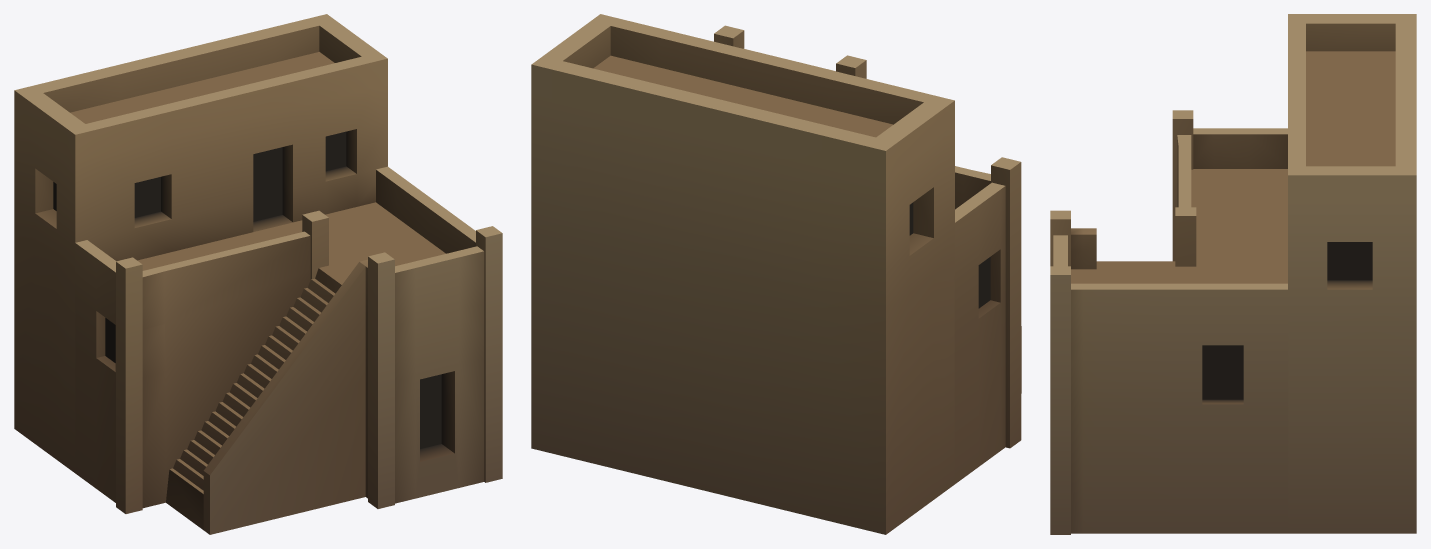
3 views of the same model, side by side, from view 1: azimuth 30°, elevation 25°; view 2: azimuth 150°, elevation 25°; view 3: azimuth 270°, elevation 25° (orthographic). The views are drawn at different scales.
Visible parts, largest first — view 1: alt3.017; view 2: alt3.017; view 3: alt3.017.
Boxes of the visible parts, x1,y1,x2,y2 form: alt3.017: (14,14,502,534); alt3.017: (531,14,1021,534); alt3.017: (1050,14,1416,534).
Size of the model in its own units: 0.4931 by 0.5 by 0.4636.
